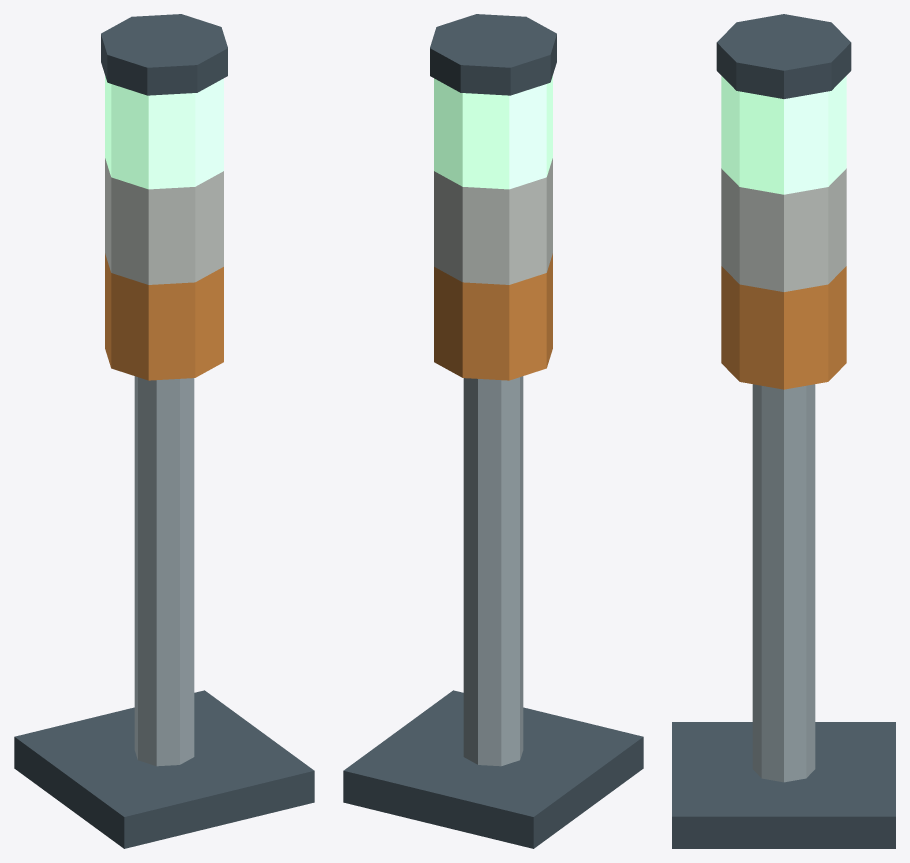
The model's file is three-state-signal-tower.glb.
3 views of the same model, side by side, from view 1: azimuth 30°, elevation 25°; view 2: azimuth 150°, elevation 25°; view 3: azimuth 270°, elevation 25° (orthographic).
Visible parts, largest first — view 1: dark, steel, orange, cream, light; view 2: dark, steel, orange, cream, light; view 3: dark, steel, cream, orange, light.
Boxes of the visible parts, box(x1,y1,x2,y2) form: dark: box(14, 14, 314, 848); steel: box(134, 376, 194, 766); orange: box(105, 253, 223, 380); cream: box(105, 158, 223, 284); light: box(105, 75, 223, 189); dark: box(343, 14, 643, 848); steel: box(463, 376, 523, 766); orange: box(434, 253, 552, 380); cream: box(434, 158, 552, 284); light: box(434, 75, 552, 189); dark: box(672, 14, 895, 848); steel: box(752, 384, 815, 782); cream: box(721, 168, 846, 291); orange: box(721, 266, 846, 389); light: box(721, 76, 846, 194).
Bounding box in the file's own units: 0.25 × 0.935 × 0.25.
